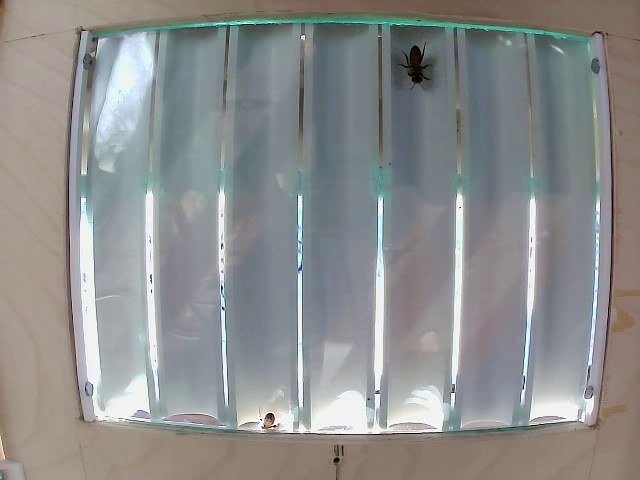bee: (400, 44, 438, 91)
